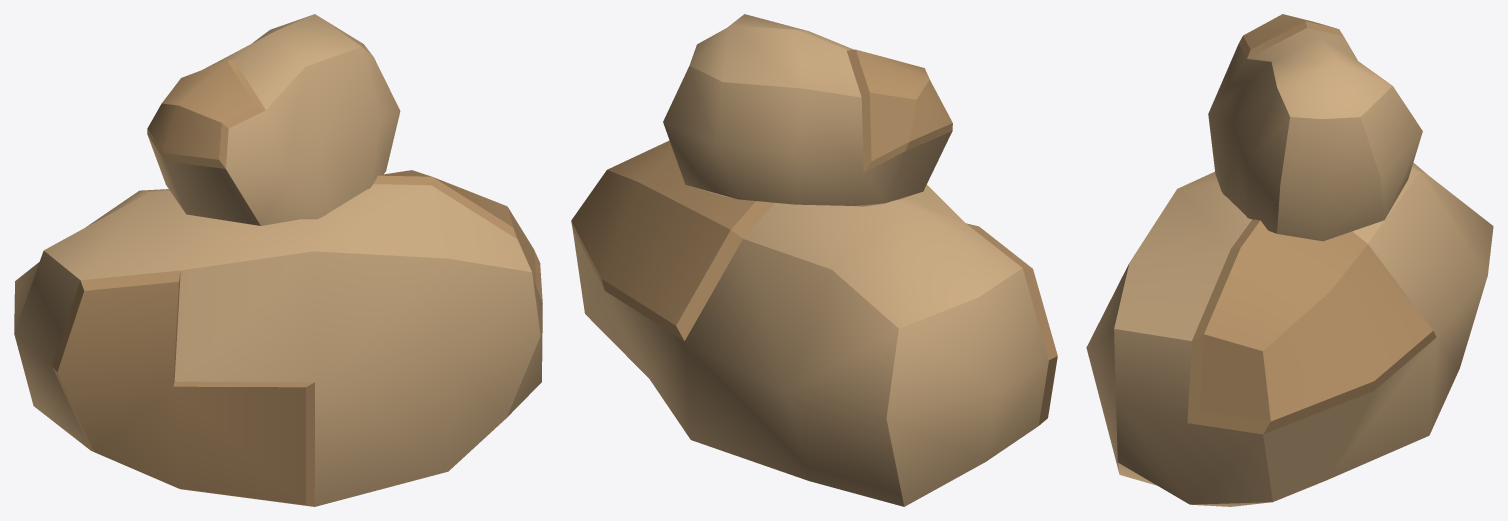
Rendered from Stone_Temple_06.fbx.
3 views of the same model, side by side, from view 1: azimuth 30°, elevation 25°; view 2: azimuth 150°, elevation 25°; view 3: azimuth 270°, elevation 25° (orthographic). The views are drawn at different scales.
Parts seen in each view (by area): view 1: Stone_005; view 2: Stone_005; view 3: Stone_005.
Part boxes in pixels (x1,y1,x2,y2): Stone_005: [14, 14, 542, 506]; Stone_005: [571, 14, 1057, 506]; Stone_005: [1086, 14, 1493, 506].
Size of the model in its own units: 93.76 by 75.73 by 67.72.
Materials: 1 (1 with a texture image).
